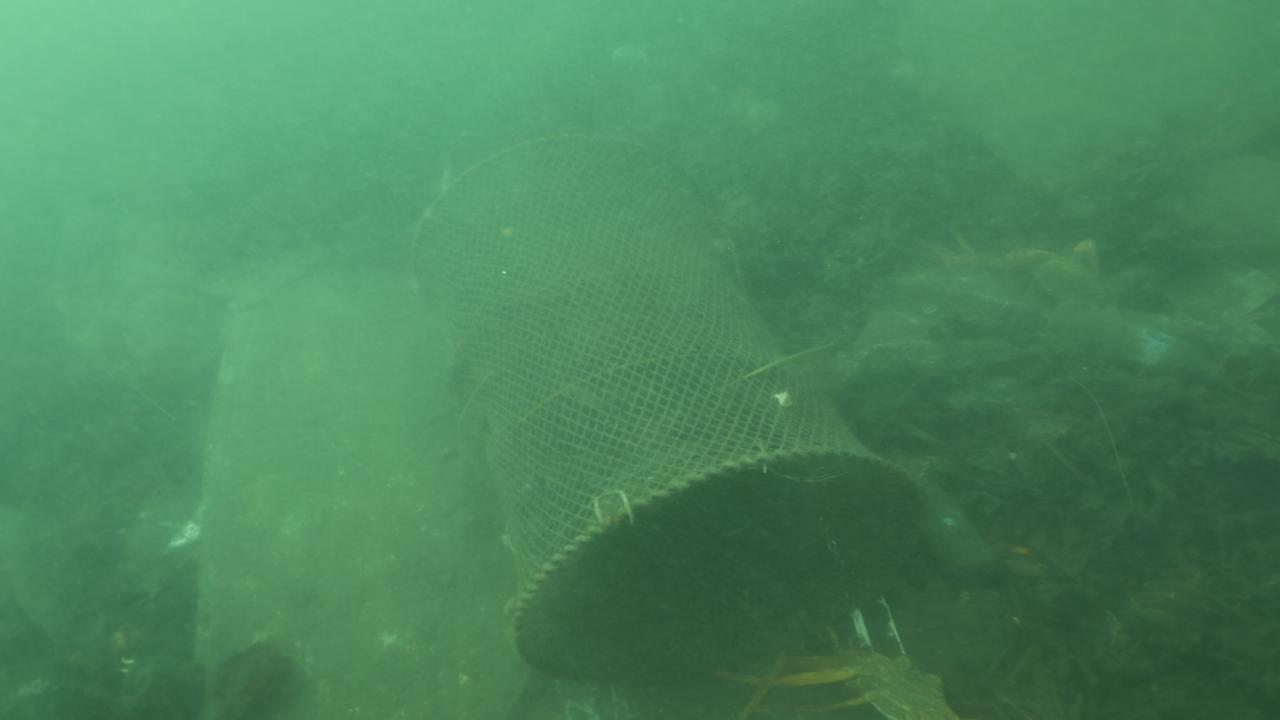spring fish trap: (404, 126, 930, 688)
